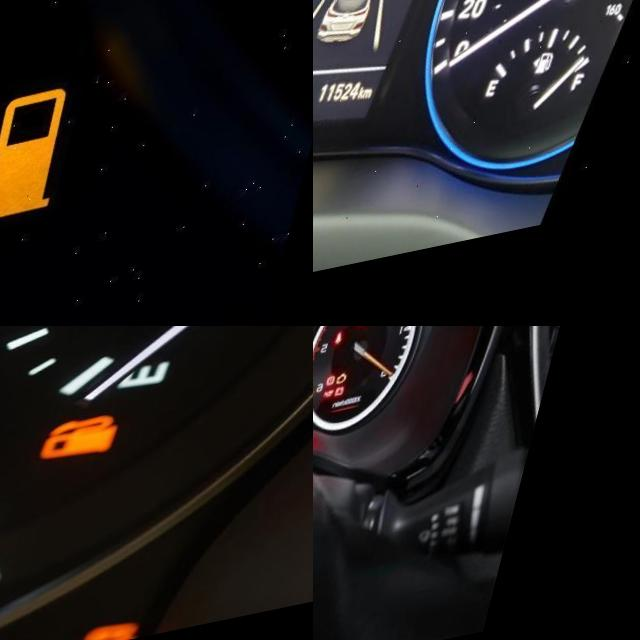Seat Belt: (349, 347, 360, 364)
